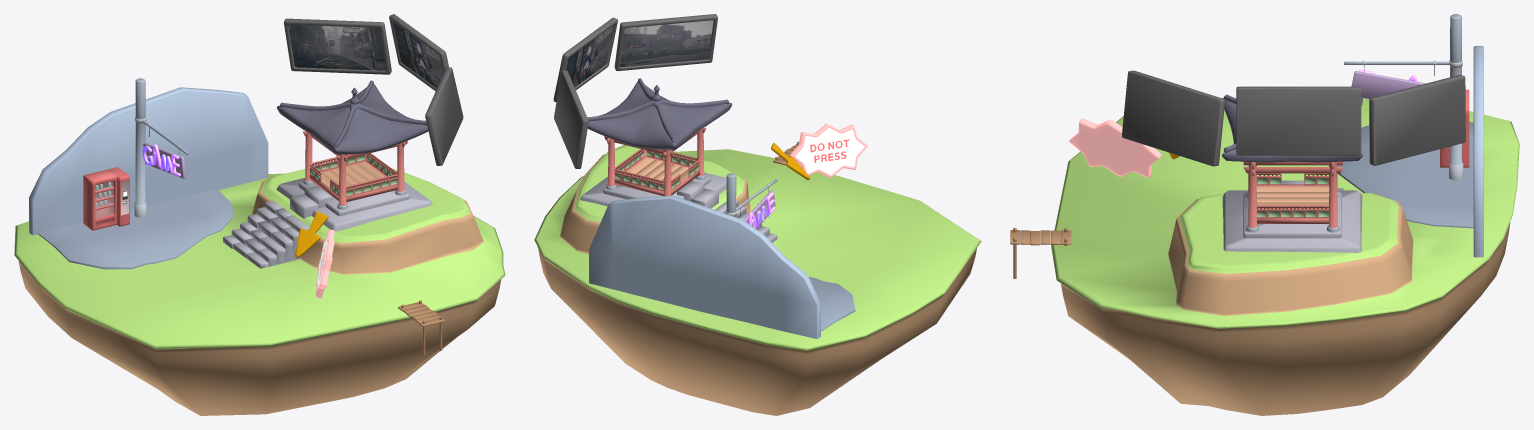
File: gameLand.glb
3 renders of one model, left to right at view 1: azimuth 30°, elevation 25°; view 2: azimuth 150°, elevation 25°; view 3: azimuth 270°, elevation 25°, orthographic. The views are drawn at different scales.
Parts seen in each view (by area): view 1: game_land, game_concrete, game_pavilion_roof, game_monitor_emission, game_monitor_body, game_stair_rock02, game_stair_rock01, game_wood03, game_vending_machine_body01, game_pole_body, game_wood01, game_dock_wood (+5 smaller); view 2: game_land, game_concrete, game_pavilion_roof, game_monitor_emission, game_monitor_body, game_battle_machine_sign02, game_wood03, game_stair_rock02, game_wood01, game_pole_body, game_stair_rock01; view 3: game_land, game_monitor_body, game_concrete, game_stair_rock02, game_wood03, game_battle_machine_sign02, game_wood01, game_pole_body, game_pavilion_roof, game_sign_board, game_dock_wood, game_wood02 (+1 smaller).
Part boxes in pixels (left/top/right/bottom): game_land: left=14, top=168, right=505, bottom=415; game_concrete: left=29, top=87, right=268, bottom=269; game_pavilion_roof: left=277, top=80, right=428, bottom=154; game_monitor_emission: left=288, top=21, right=443, bottom=88; game_monitor_body: left=284, top=14, right=463, bottom=165; game_stair_rock02: left=276, top=178, right=432, bottom=231; game_stair_rock01: left=223, top=200, right=309, bottom=268; game_wood03: left=303, top=132, right=405, bottom=209; game_vending_machine_body01: left=83, top=167, right=129, bottom=230; game_pole_body: left=134, top=78, right=188, bottom=217; game_wood01: left=310, top=153, right=397, bottom=197; game_dock_wood: left=398, top=300, right=445, bottom=354; game_land: left=534, top=145, right=981, bottom=415; game_concrete: left=589, top=195, right=855, bottom=338; game_pavilion_roof: left=587, top=78, right=732, bottom=149; game_monitor_emission: left=566, top=20, right=713, bottom=87; game_monitor_body: left=553, top=14, right=717, bottom=168; game_battle_machine_sign02: left=789, top=124, right=867, bottom=177; game_wood03: left=606, top=128, right=705, bottom=196; game_stair_rock02: left=580, top=172, right=726, bottom=208; game_wood01: left=614, top=149, right=699, bottom=191; game_pole_body: left=726, top=173, right=777, bottom=217; game_stair_rock01: left=715, top=200, right=777, bottom=242; game_land: left=1051, top=98, right=1519, bottom=415; game_monitor_body: left=1122, top=70, right=1465, bottom=166; game_concrete: left=1337, top=46, right=1483, bottom=257; game_stair_rock02: left=1222, top=180, right=1362, bottom=252; game_wood03: left=1246, top=162, right=1339, bottom=232; game_battle_machine_sign02: left=1069, top=118, right=1161, bottom=177; game_wood01: left=1257, top=173, right=1328, bottom=218; game_pole_body: left=1344, top=14, right=1463, bottom=180; game_pavilion_roof: left=1222, top=94, right=1362, bottom=162; game_sign_board: left=1351, top=71, right=1425, bottom=98; game_dock_wood: left=1010, top=228, right=1071, bottom=278; game_wood02: left=1243, top=161, right=1342, bottom=176.
Size of the model in its own units: 563 by 394 by 517.
19 materials, 9 textured.
